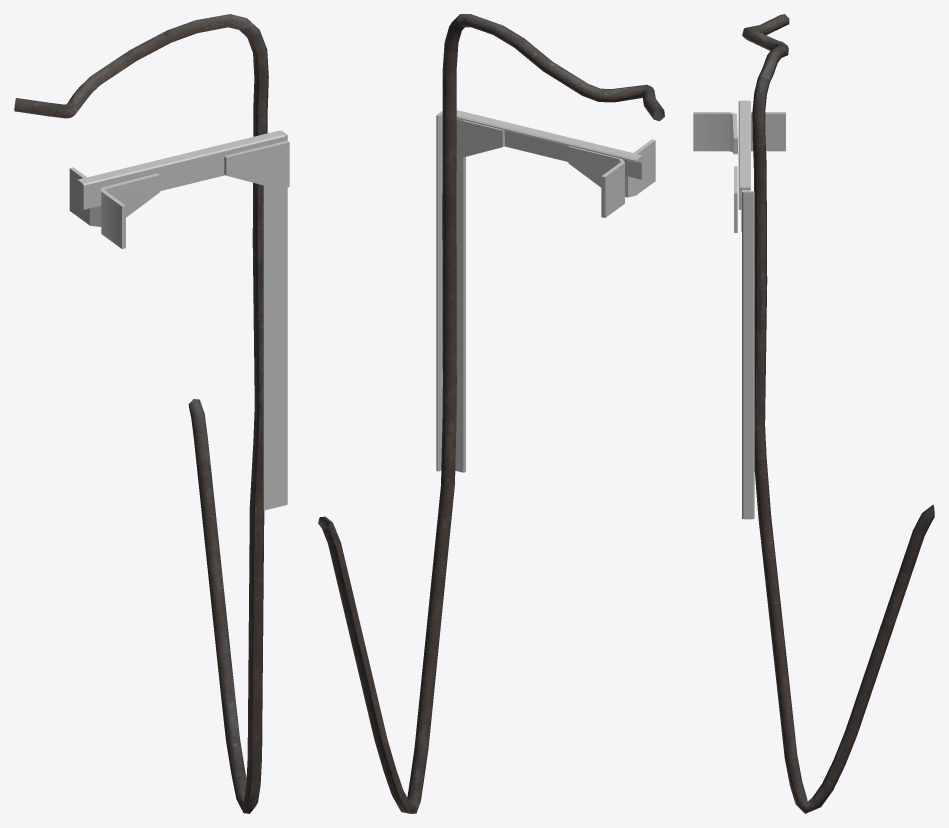
The model's file is sm_CraneCarriage_CableArm_01_01.fbx.
3 views of the same model, side by side, from view 1: azimuth 30°, elevation 25°; view 2: azimuth 150°, elevation 25°; view 3: azimuth 270°, elevation 25° (orthographic). The views are drawn at different scales.
Parts seen in each view (by area): view 1: sm_CraneCarriage_CableArm_01_01_LOD0; view 2: sm_CraneCarriage_CableArm_01_01_LOD0; view 3: sm_CraneCarriage_CableArm_01_01_LOD0.
Part boxes in pixels (x1,y1,x2,y2): sm_CraneCarriage_CableArm_01_01_LOD0: (14,14,289,813); sm_CraneCarriage_CableArm_01_01_LOD0: (318,14,664,813); sm_CraneCarriage_CableArm_01_01_LOD0: (693,14,934,813).
Bounding box in the file's own units: 37.58 × 32.48 × 108.
